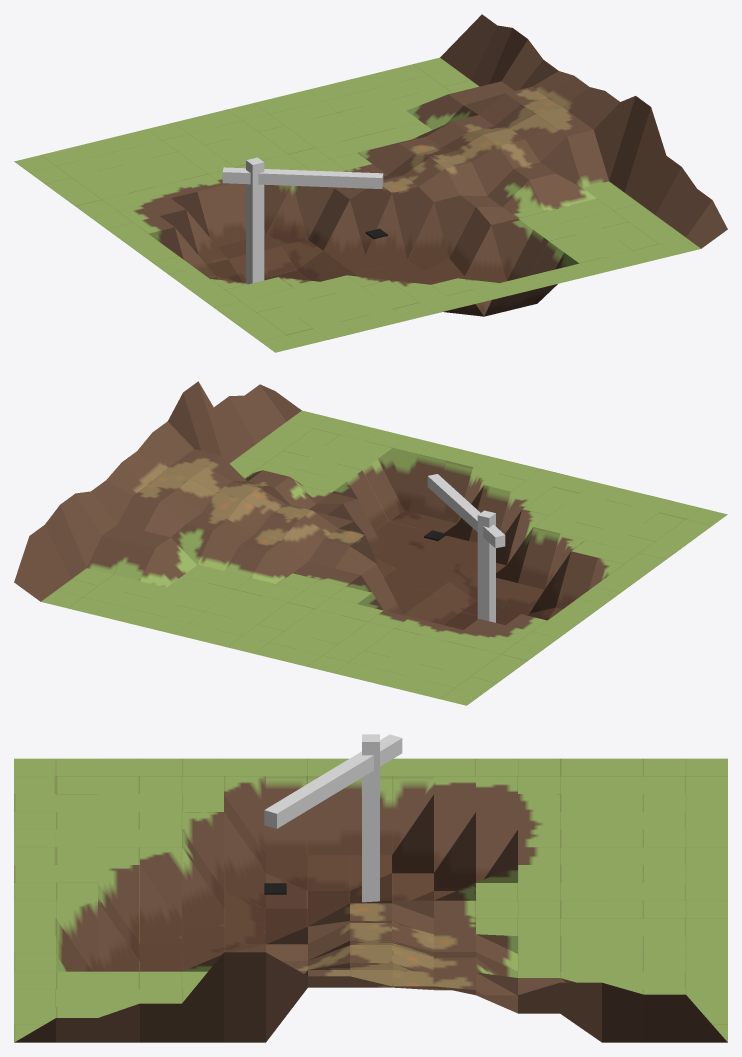
File: map_crater.fbx
3 renders of one model, top to bottom at view 1: azimuth 30°, elevation 25°; view 2: azimuth 150°, elevation 25°; view 3: azimuth 270°, elevation 25°, orthographic. The views are drawn at different scales.
Visible parts, largest first — view 1: plane, cuboid_1, cuboid; view 2: plane, cuboid, cuboid_1; view 3: plane, cuboid_1, cuboid.
Part boxes in pixels (<box>): plane: <box>14,14,727,352</box>; cuboid_1: <box>222,167,383,188</box>; cuboid: <box>246,157,264,283</box>; plane: <box>14,381,727,705</box>; cuboid: <box>477,510,495,622</box>; cuboid_1: <box>427,474,505,548</box>; plane: <box>14,758,727,1042</box>; cuboid_1: <box>264,734,402,828</box>; cuboid: <box>362,734,379,902</box>.
Bounding box in the file's own units: 102400 × 33600 × 102400.
Materials: 2 (2 with a texture image).
